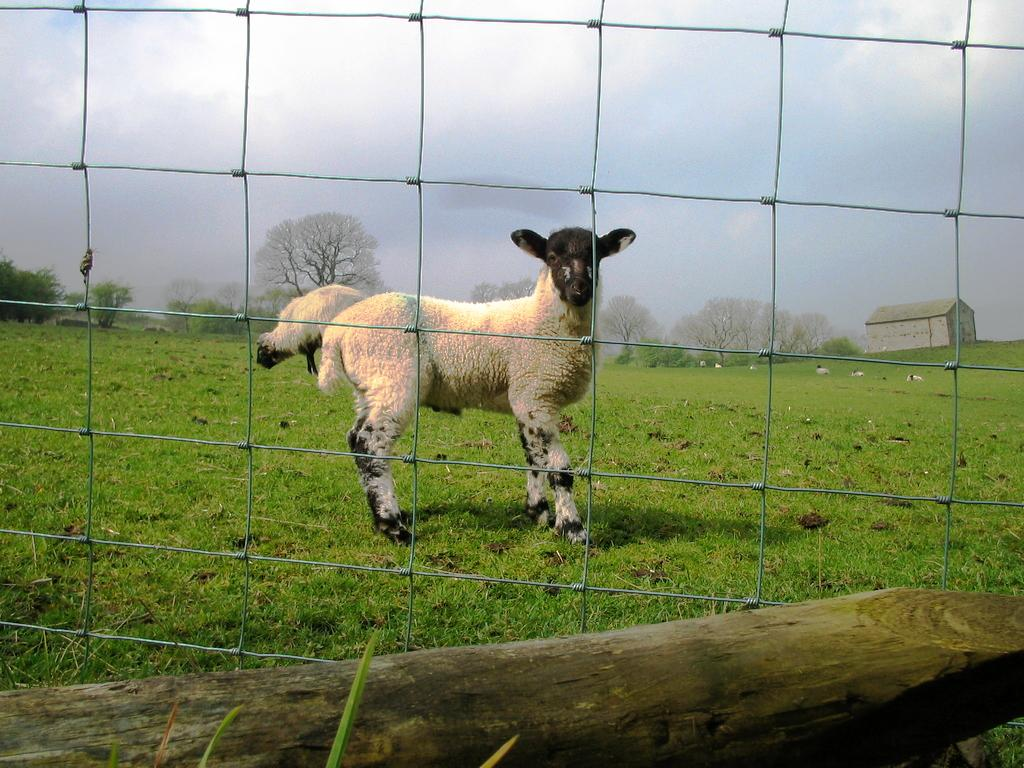Sheep: (270, 216, 646, 553)
